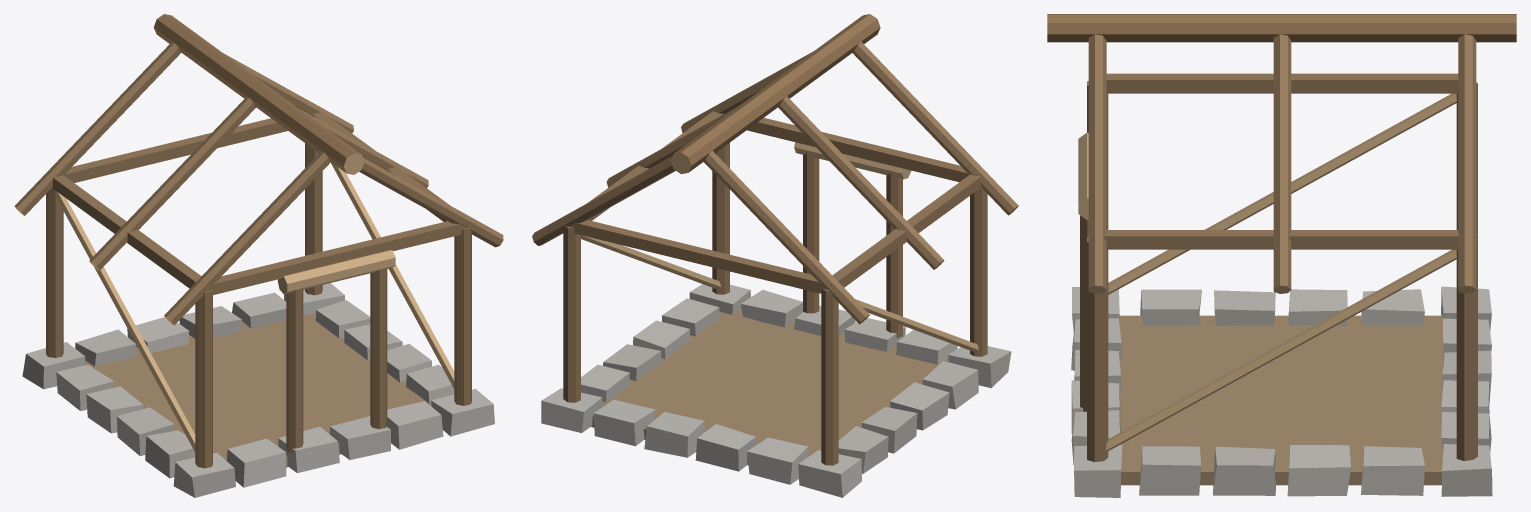
File: building_smelter_frame.glb
3 renders of one model, left to right at view 1: azimuth 30°, elevation 25°; view 2: azimuth 150°, elevation 25°; view 3: azimuth 270°, elevation 25°, orthographic. The views are drawn at different scales.
Parts seen in each view (by area): view 1: building_smelter_frame; view 2: building_smelter_frame; view 3: building_smelter_frame.
Boxes of the visible parts, <box> form: building_smelter_frame: <box>14,14,503,497</box>; building_smelter_frame: <box>532,14,1018,497</box>; building_smelter_frame: <box>1047,14,1516,497</box>.
Size of the model in its own units: 3.85 by 3.47 by 3.76.
